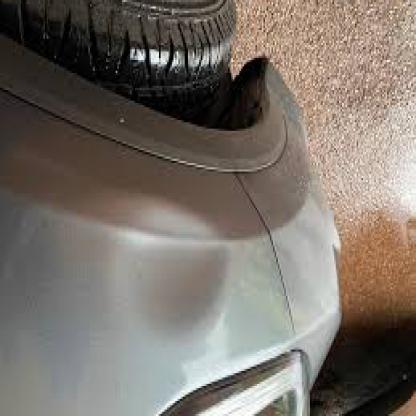dent: (116, 218, 233, 335)
